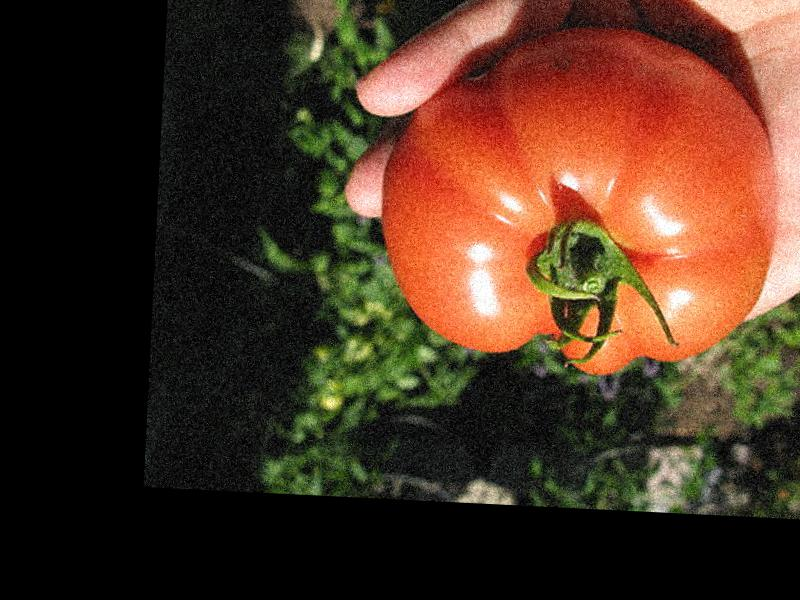Tomato: (373, 22, 781, 382)
